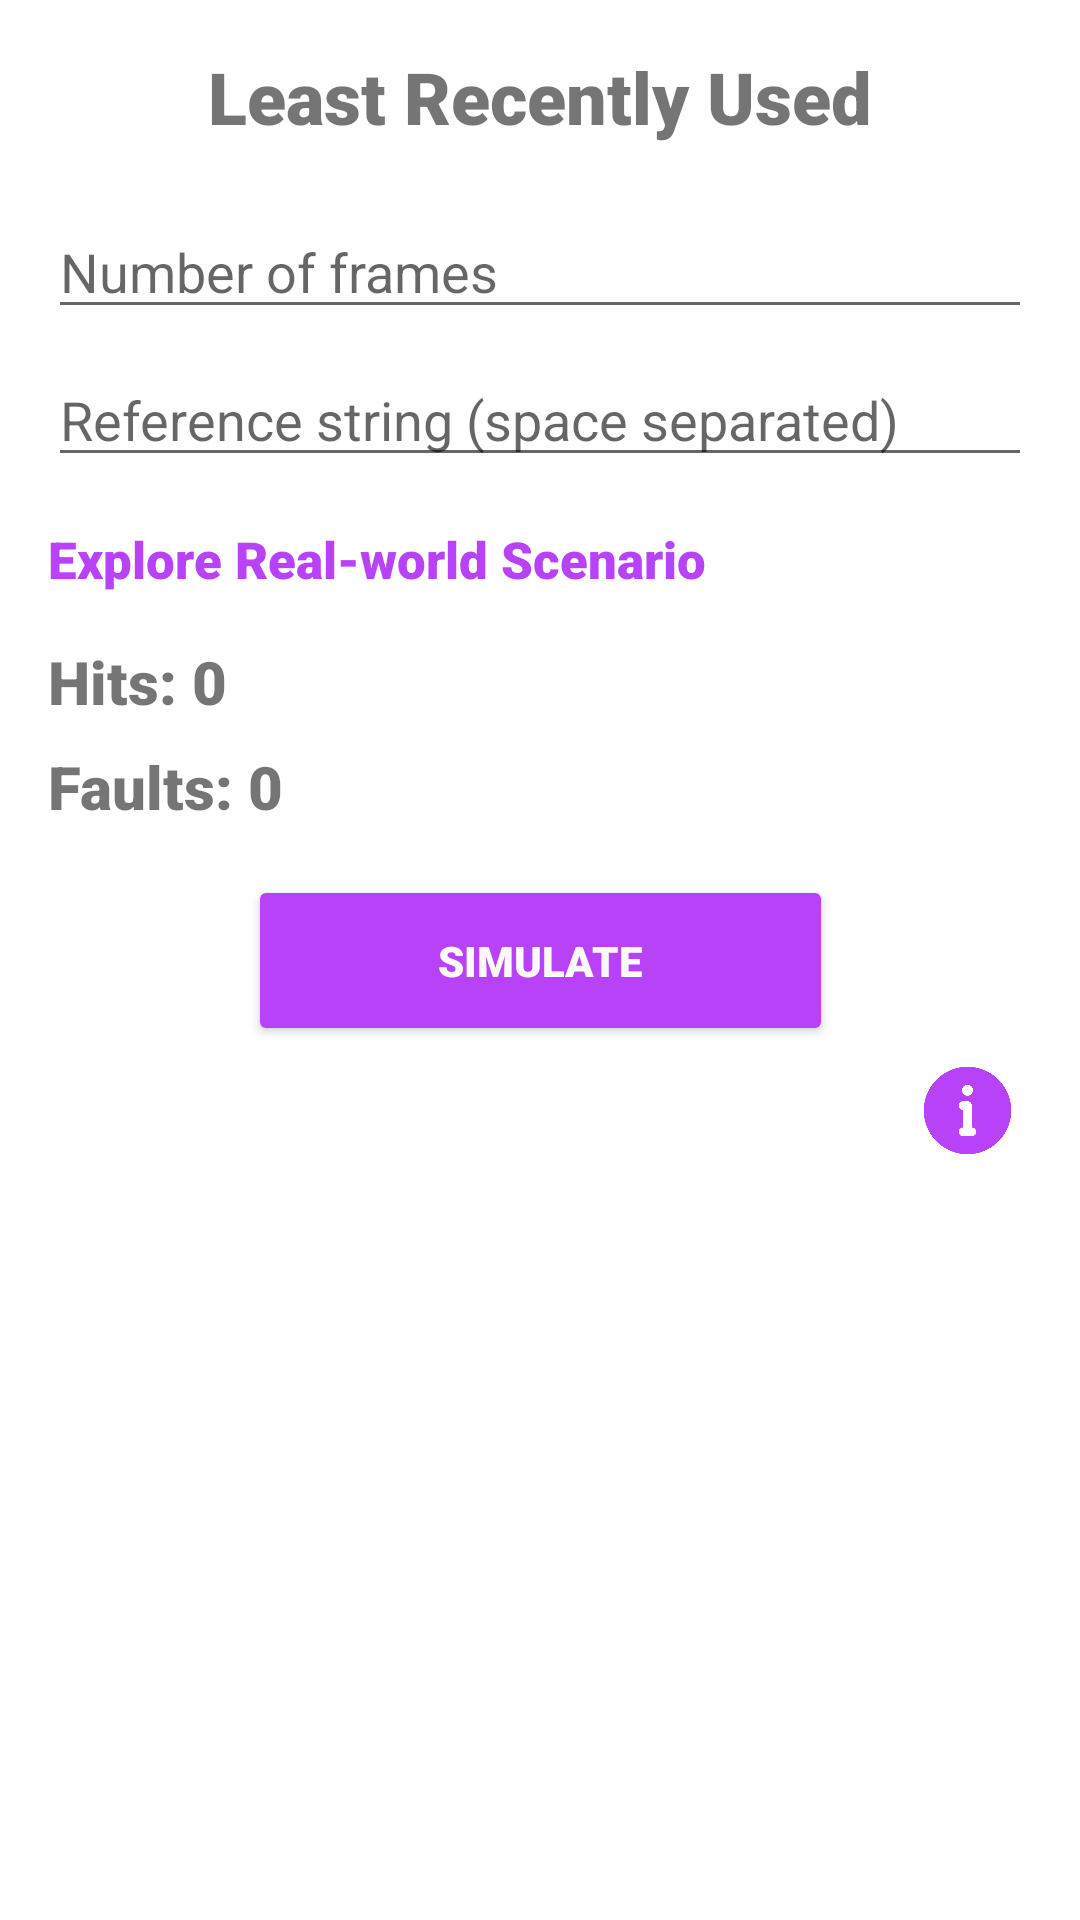

Screen size 1080w x 1920h. Icon name, then its box in pixels as (x1=x1, y1=y1, x2=x2, y2=y2):
information: (x1=924, y1=1067, x2=1011, y2=1154)
